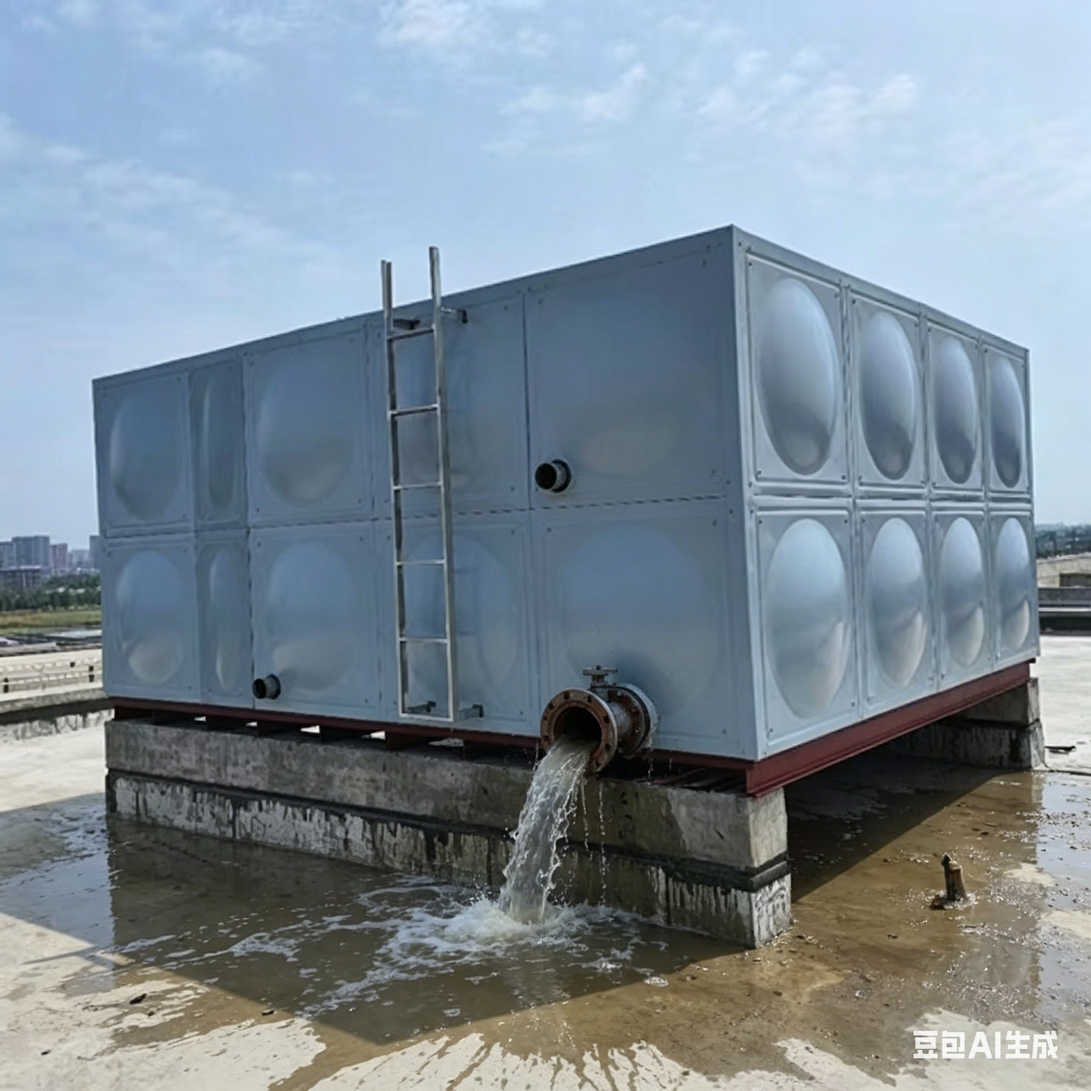Leakage: (385, 730, 652, 1043), (40, 830, 375, 1057), (800, 820, 1083, 1019), (666, 931, 792, 1071), (868, 768, 1091, 814)
